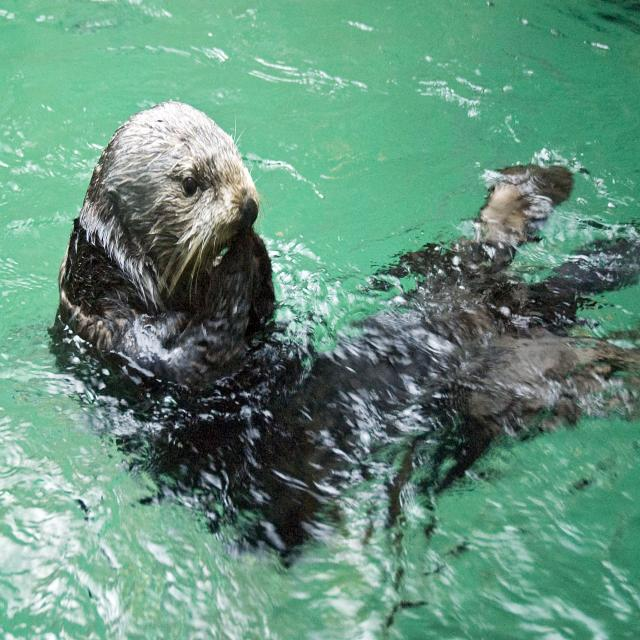otter: (59, 101, 274, 377)
